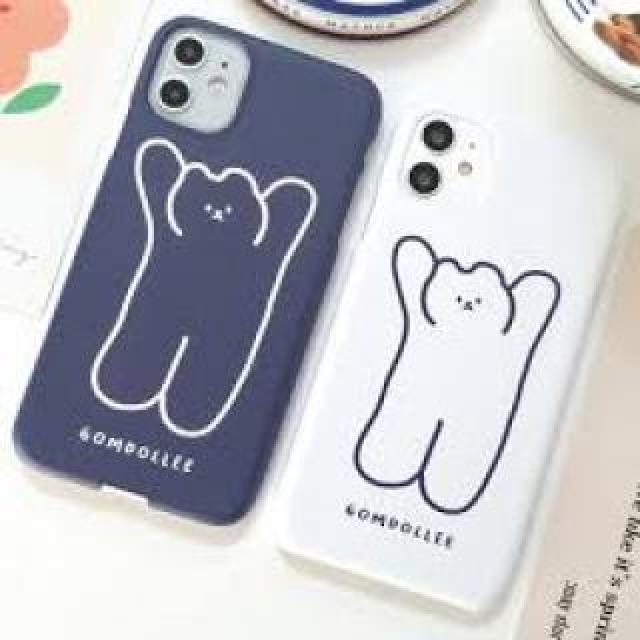smart phone: (10, 2, 353, 520), (355, 94, 640, 628)
